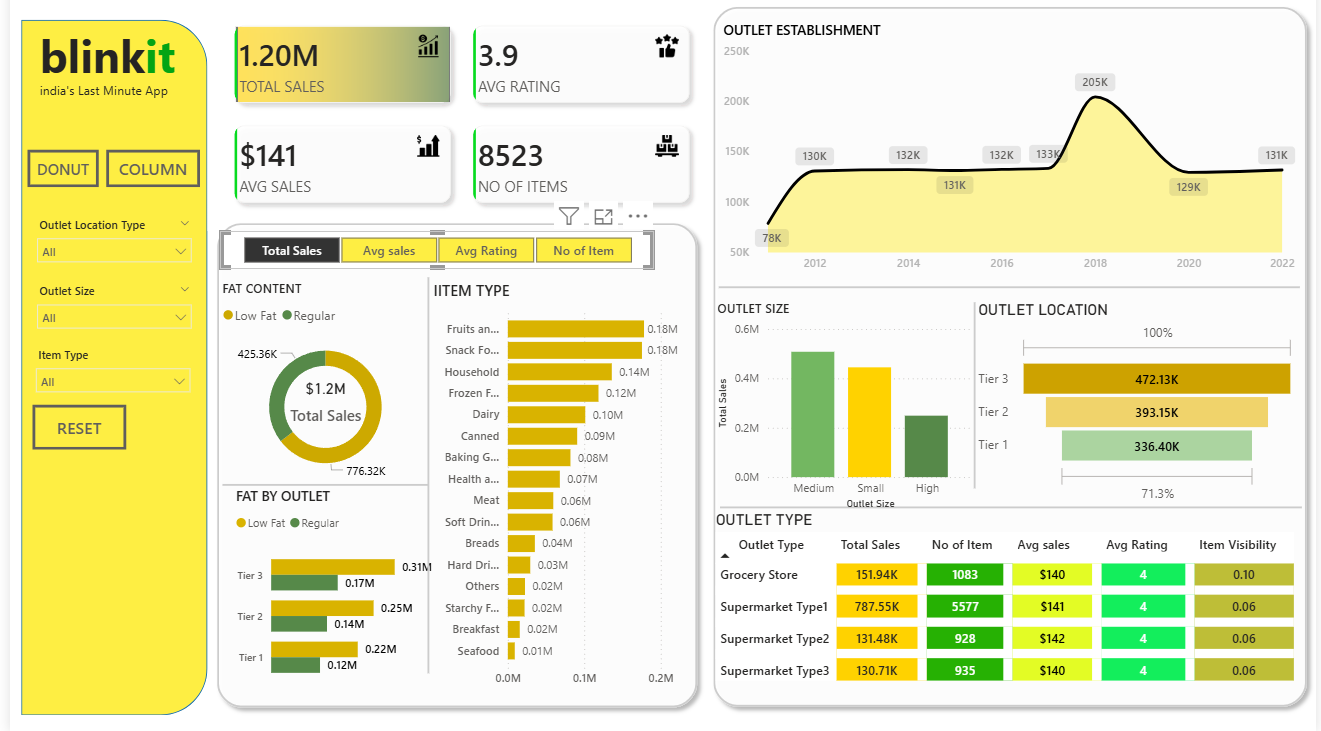

Layout of this report page (visuals, bound fields, positions):
{"tool":"powerbi","page":{"name":"Page 1","canvas":[1400,800],"ordinal":0},"visuals":[{"type":"shape","box":[12,36,199.6,745.9],"z":0},{"type":"textbox","box":[27,36,171.1,81],"z":1000},{"type":"textbox","box":[27,97.6,154.6,40.5],"z":2000},{"type":"cardVisual","fields":{"Data":["BlinkIT Grocery Data.Total Sales","BlinkIT Grocery Data.Avg Rating","BlinkIT Grocery Data.Avg sales","BlinkIT Grocery Data.No of Item"]},"box":[211.6,13.5,547.8,249.1],"z":3000},{"type":"shape","box":[213.1,244.6,532.8,537.3],"z":4000},{"type":"donutChart","title":" FAT CONTENT","fields":{"Y":["BlinkIT Grocery Data.Total Sales"],"Category":["BlinkIT Grocery Data.Item Fat Content"]},"box":[228.1,315.2,220.6,220.6],"z":5000},{"type":"slicer","fields":{"Values":["Metrics.Metrics"]},"box":[225.1,262.7,465.3,40.5],"z":6000},{"type":"card","fields":{"Values":["BlinkIT Grocery Data.Total Sales"]},"box":[292.7,411.2,93.1,63],"z":7000},{"type":"clusteredBarChart","title":"FAT BY OUTLET","fields":{"Y":["BlinkIT Grocery Data.Total Sales"],"Category":["BlinkIT Grocery Data.Outlet Location Type"],"Series":["BlinkIT Grocery Data.Item Fat Content"]},"box":[237.1,535.8,220.6,225.1],"z":8000},{"type":"shape","box":[228.1,514.8,220.6,40.5],"z":9000},{"type":"shape","box":[439.8,312.2,18,424.7],"z":10000},{"type":"barChart","title":"IITEM TYPE","fields":{"Y":["BlinkIT Grocery Data.Total Sales"],"Category":["BlinkIT Grocery Data.Item Type"]},"box":[448.8,315.2,286.7,445.8],"z":11000},{"type":"shape","box":[745.9,13.5,654.4,768.4],"z":12000},{"type":"lineChart","title":"OUTLET ESTABLISHMENT ","fields":{"Category":["BlinkIT Grocery Data.Outlet Establishment Year"],"Y":["BlinkIT Grocery Data.Total Sales"]},"box":[760.1,36.2,623.3,278.8],"z":13000},{"type":"shape","box":[760.1,303,623.3,40.2],"z":14000},{"type":"shape","box":[1025.1,339.2,18,199.6],"z":16000},{"type":"funnel","title":"OUTLET LOCATION","fields":{"Category":["BlinkIT Grocery Data.Outlet Location Type"],"Y":["Sum(BlinkIT Grocery Data.Sales)"]},"box":[1034.1,336.2,349.7,222.1],"z":17000},{"type":"shape","box":[760.9,538.8,624.4,40.5],"z":18000},{"type":"pivotTable","title":"OUTLET TYPE","fields":{"Values":["BlinkIT Grocery Data.Total Sales","BlinkIT Grocery Data.No of Item","BlinkIT Grocery Data.Avg sales","BlinkIT Grocery Data.Avg Rating","Avg(BlinkIT Grocery Data.Item Visibility)"],"Rows":["BlinkIT Grocery Data.Outlet Type"]},"box":[751.9,561.3,642.4,199.6],"z":19000},{"type":"slicer","fields":{"Values":["BlinkIT Grocery Data.Outlet Location Type"]},"box":[18.8,242.6,186.3,60.3],"z":20000},{"type":"slicer","fields":{"Values":["BlinkIT Grocery Data.Outlet Size"]},"box":[18.8,313.7,186.3,60.3],"z":21000},{"type":"slicer","fields":{"Values":["BlinkIT Grocery Data.Item Type"]},"box":[17.4,382,186.3,60.3],"z":22000},{"type":"columnChart","title":"OUTLET SIZE","fields":{"Category":["BlinkIT Grocery Data.Outlet Size"],"Y":["BlinkIT Grocery Data.Total Sales"]},"box":[759.3,336.3,273.9,225.2],"z":23000},{"type":"actionButton","title":"RESET","box":[24.1,449.1,100.5,48.3],"z":24000},{"type":"actionButton","box":[18.8,175.6,76.4,40.2],"z":25000},{"type":"actionButton","box":[103.2,175.6,100.5,40.2],"z":26000}]}

Visuals, with their boxes on the page's 1400x800 design canvas (x1, y1, x2, y2). These are canvas units, not pixel positions in the 1321x731 screenshot, which may show the page scaled, cropped or inside an application window:
shape: region(12, 36, 212, 782)
textbox: region(27, 36, 198, 117)
textbox: region(27, 98, 182, 138)
cardVisual - BlinkIT Grocery Data.Total Sales x BlinkIT Grocery Data.Avg Rating: region(212, 14, 759, 263)
shape: region(213, 245, 746, 782)
" FAT CONTENT" donutChart: region(228, 315, 449, 536)
slicer - Metrics.Metrics: region(225, 263, 690, 303)
card - BlinkIT Grocery Data.Total Sales: region(293, 411, 386, 474)
"FAT BY OUTLET" clusteredBarChart: region(237, 536, 458, 761)
shape: region(228, 515, 449, 555)
shape: region(440, 312, 458, 737)
"IITEM TYPE" barChart: region(449, 315, 736, 761)
shape: region(746, 14, 1400, 782)
"OUTLET ESTABLISHMENT " lineChart: region(760, 36, 1383, 315)
shape: region(760, 303, 1383, 343)
shape: region(1025, 339, 1043, 539)
"OUTLET LOCATION" funnel: region(1034, 336, 1384, 558)
shape: region(761, 539, 1385, 579)
"OUTLET TYPE" pivotTable: region(752, 561, 1394, 761)
slicer - BlinkIT Grocery Data.Outlet Location Type: region(19, 243, 205, 303)
slicer - BlinkIT Grocery Data.Outlet Size: region(19, 314, 205, 374)
slicer - BlinkIT Grocery Data.Item Type: region(17, 382, 204, 442)
"OUTLET SIZE" columnChart: region(759, 336, 1033, 562)
"RESET" actionButton: region(24, 449, 125, 497)
actionButton: region(19, 176, 95, 216)
actionButton: region(103, 176, 204, 216)
